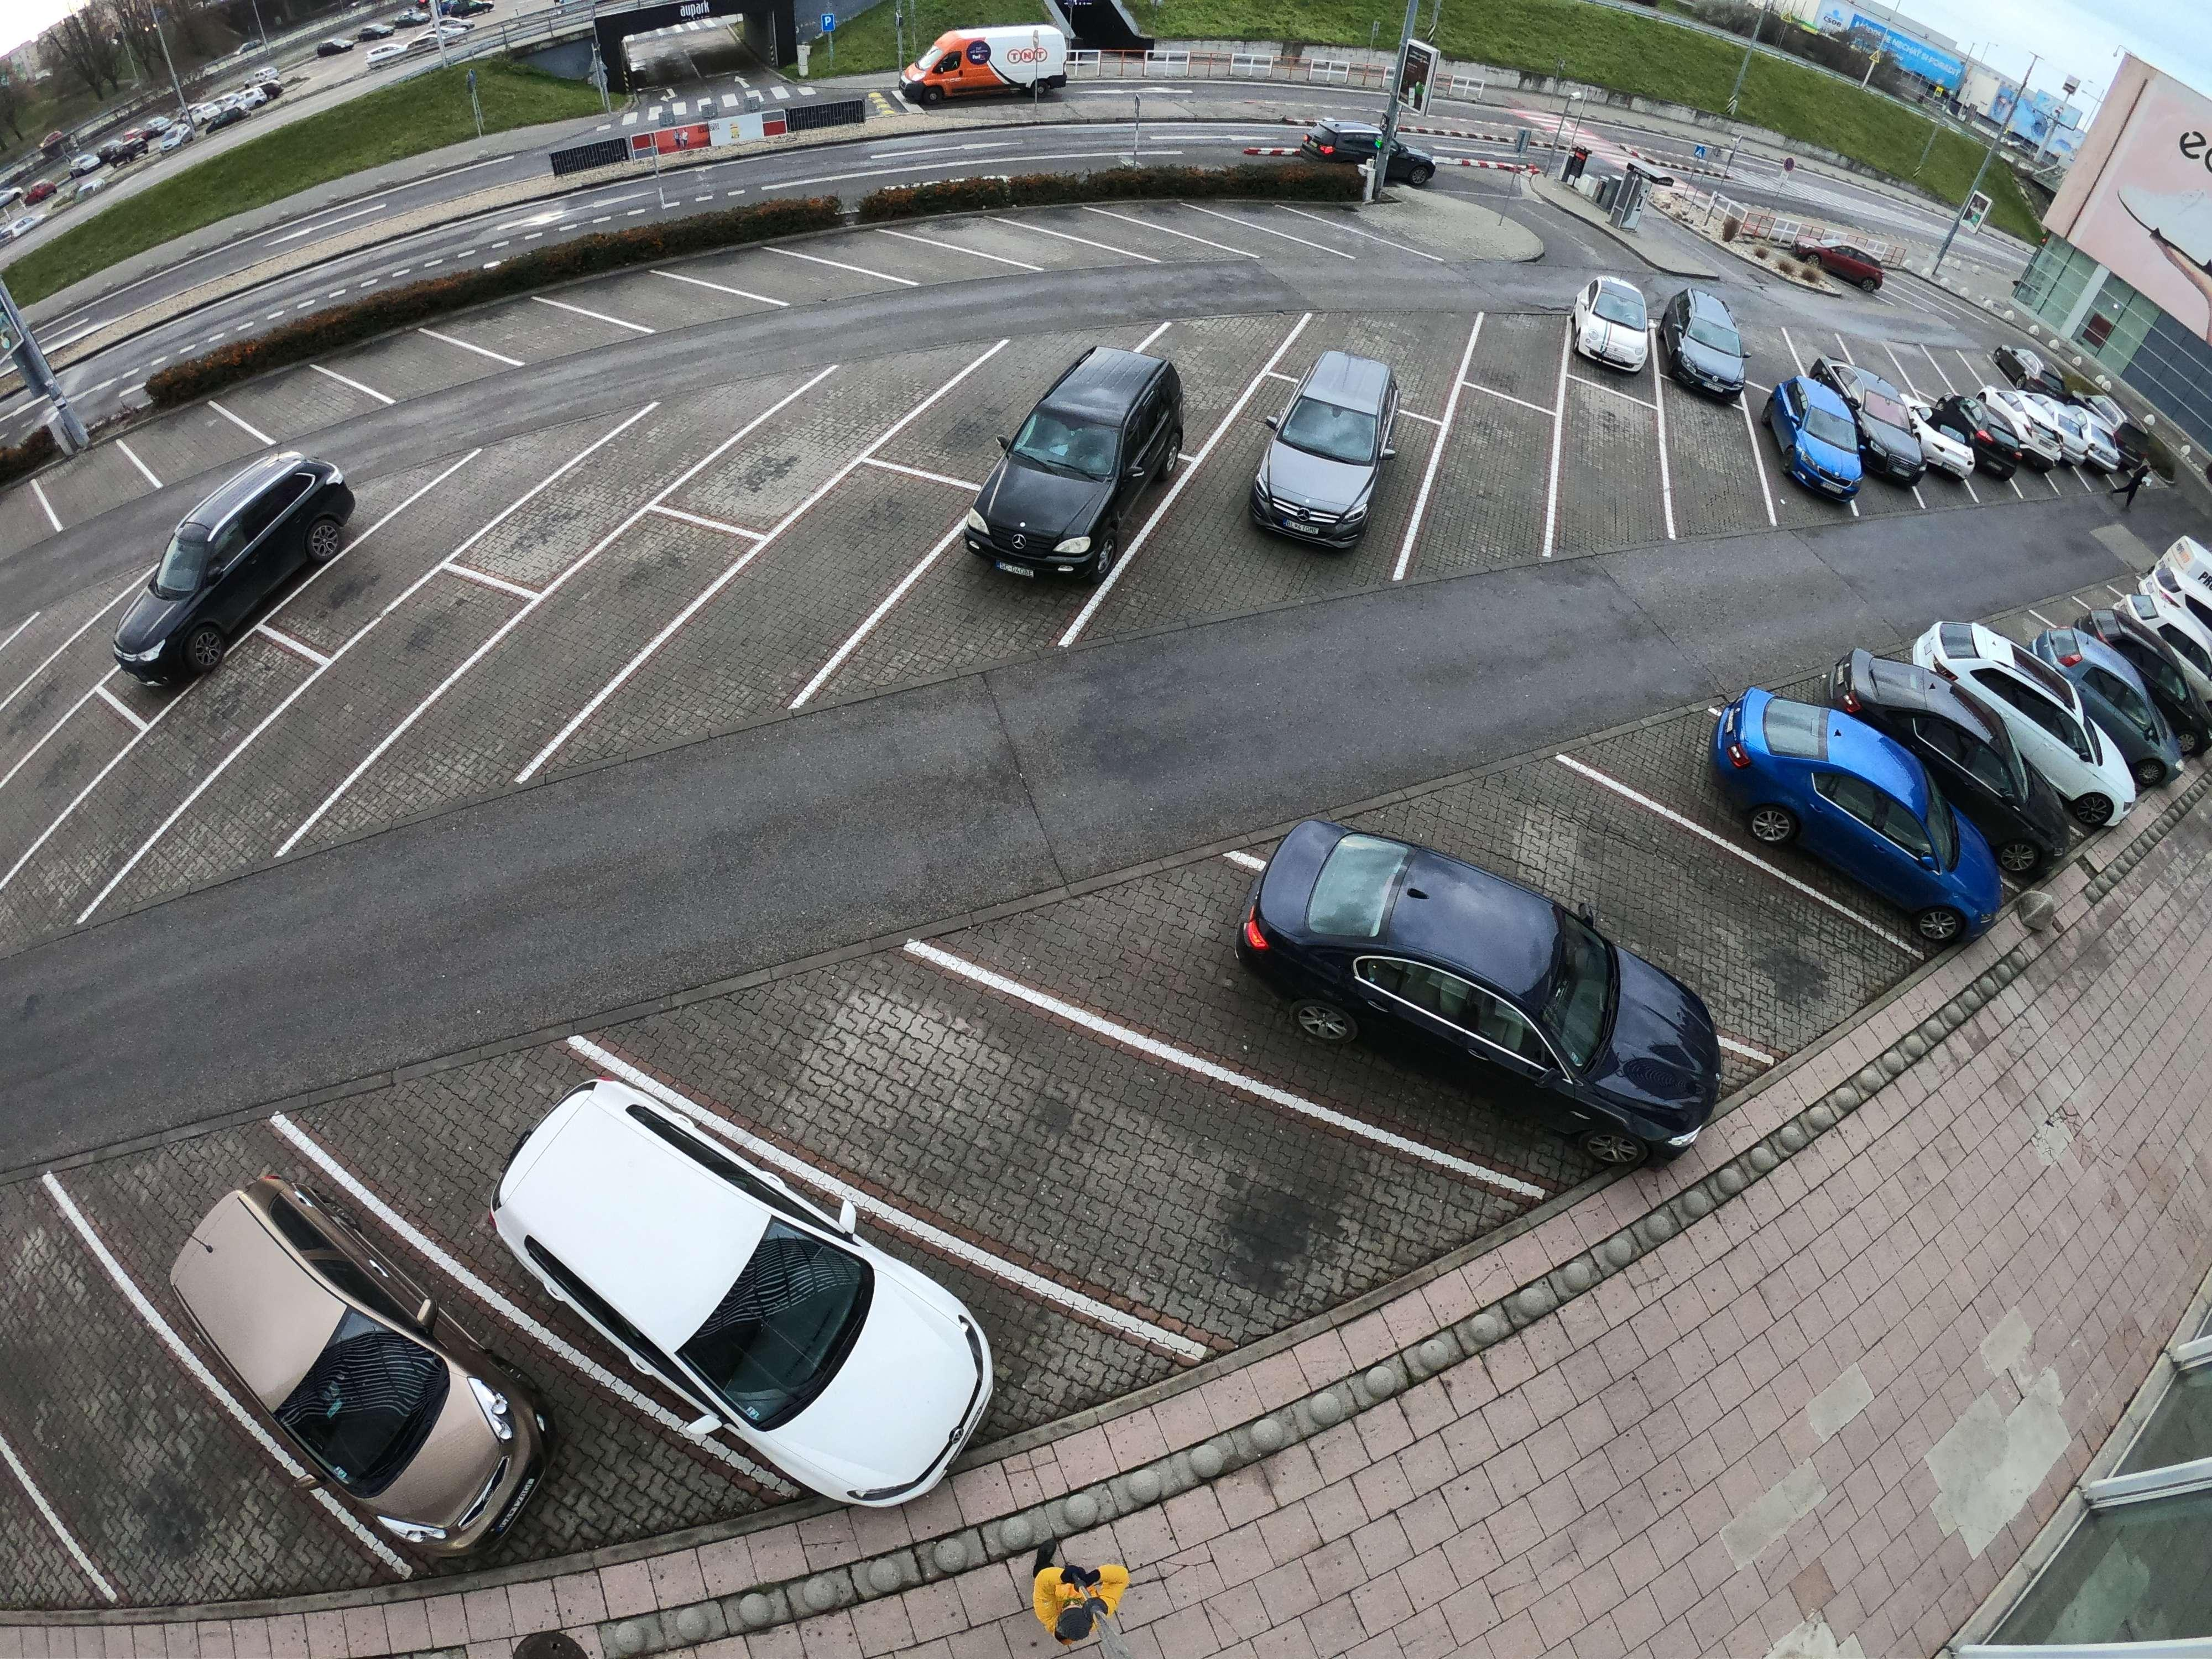empty: (427, 1049, 989, 1507), (108, 1148, 531, 1549), (1219, 821, 1761, 1119), (1702, 692, 1996, 913), (96, 444, 354, 673), (1890, 615, 2156, 826), (967, 350, 1188, 580), (1226, 324, 1416, 561), (1763, 359, 1895, 497), (2109, 582, 2210, 756), (902, 14, 1080, 99), (1564, 275, 1665, 380), (1663, 293, 1761, 396), (1834, 375, 1932, 474), (1956, 382, 2069, 465), (749, 80, 876, 141), (1900, 399, 1975, 483), (1815, 240, 1897, 296)
occupied: (881, 1047, 1176, 1255), (1585, 821, 1742, 995), (317, 627, 446, 732), (738, 542, 876, 627), (150, 678, 268, 772), (529, 582, 646, 664), (1437, 437, 1536, 533), (1573, 441, 1662, 525), (580, 432, 683, 504), (1568, 418, 1656, 498), (1672, 425, 1757, 505), (967, 380, 1050, 439), (371, 352, 467, 403), (491, 317, 587, 366), (604, 284, 707, 329), (247, 382, 334, 432), (768, 403, 853, 451), (148, 418, 223, 472), (413, 484, 498, 532), (1472, 329, 1552, 378), (979, 216, 1042, 274), (742, 256, 831, 296), (867, 239, 942, 275), (1082, 216, 1144, 258), (1200, 216, 1252, 258)
